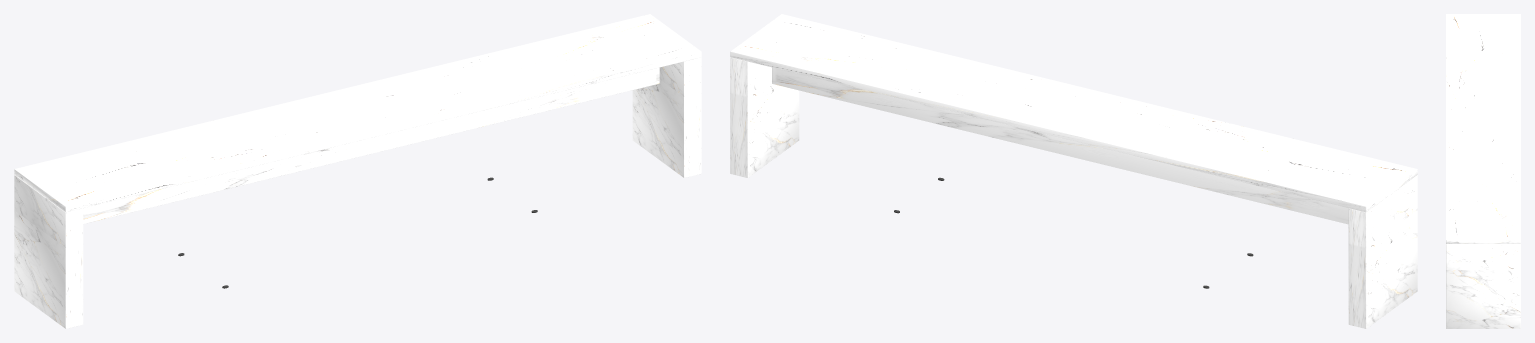
Rendered from makeupTable.gltf.
3 views of the same model, side by side, from view 1: azimuth 30°, elevation 25°; view 2: azimuth 150°, elevation 25°; view 3: azimuth 270°, elevation 25° (orthographic). The views are drawn at different scales.
Parts seen in each view (by area): view 1: Object_18; view 2: Object_18; view 3: Object_18.
Part boxes in pixels (x1,y1,x2,y2): Object_18: [14, 14, 701, 328]; Object_18: [730, 14, 1417, 328]; Object_18: [1446, 14, 1520, 328].
Bounding box in the file's own units: 8.01 × 1.49 × 1.12.
2 materials, 1 textured.
